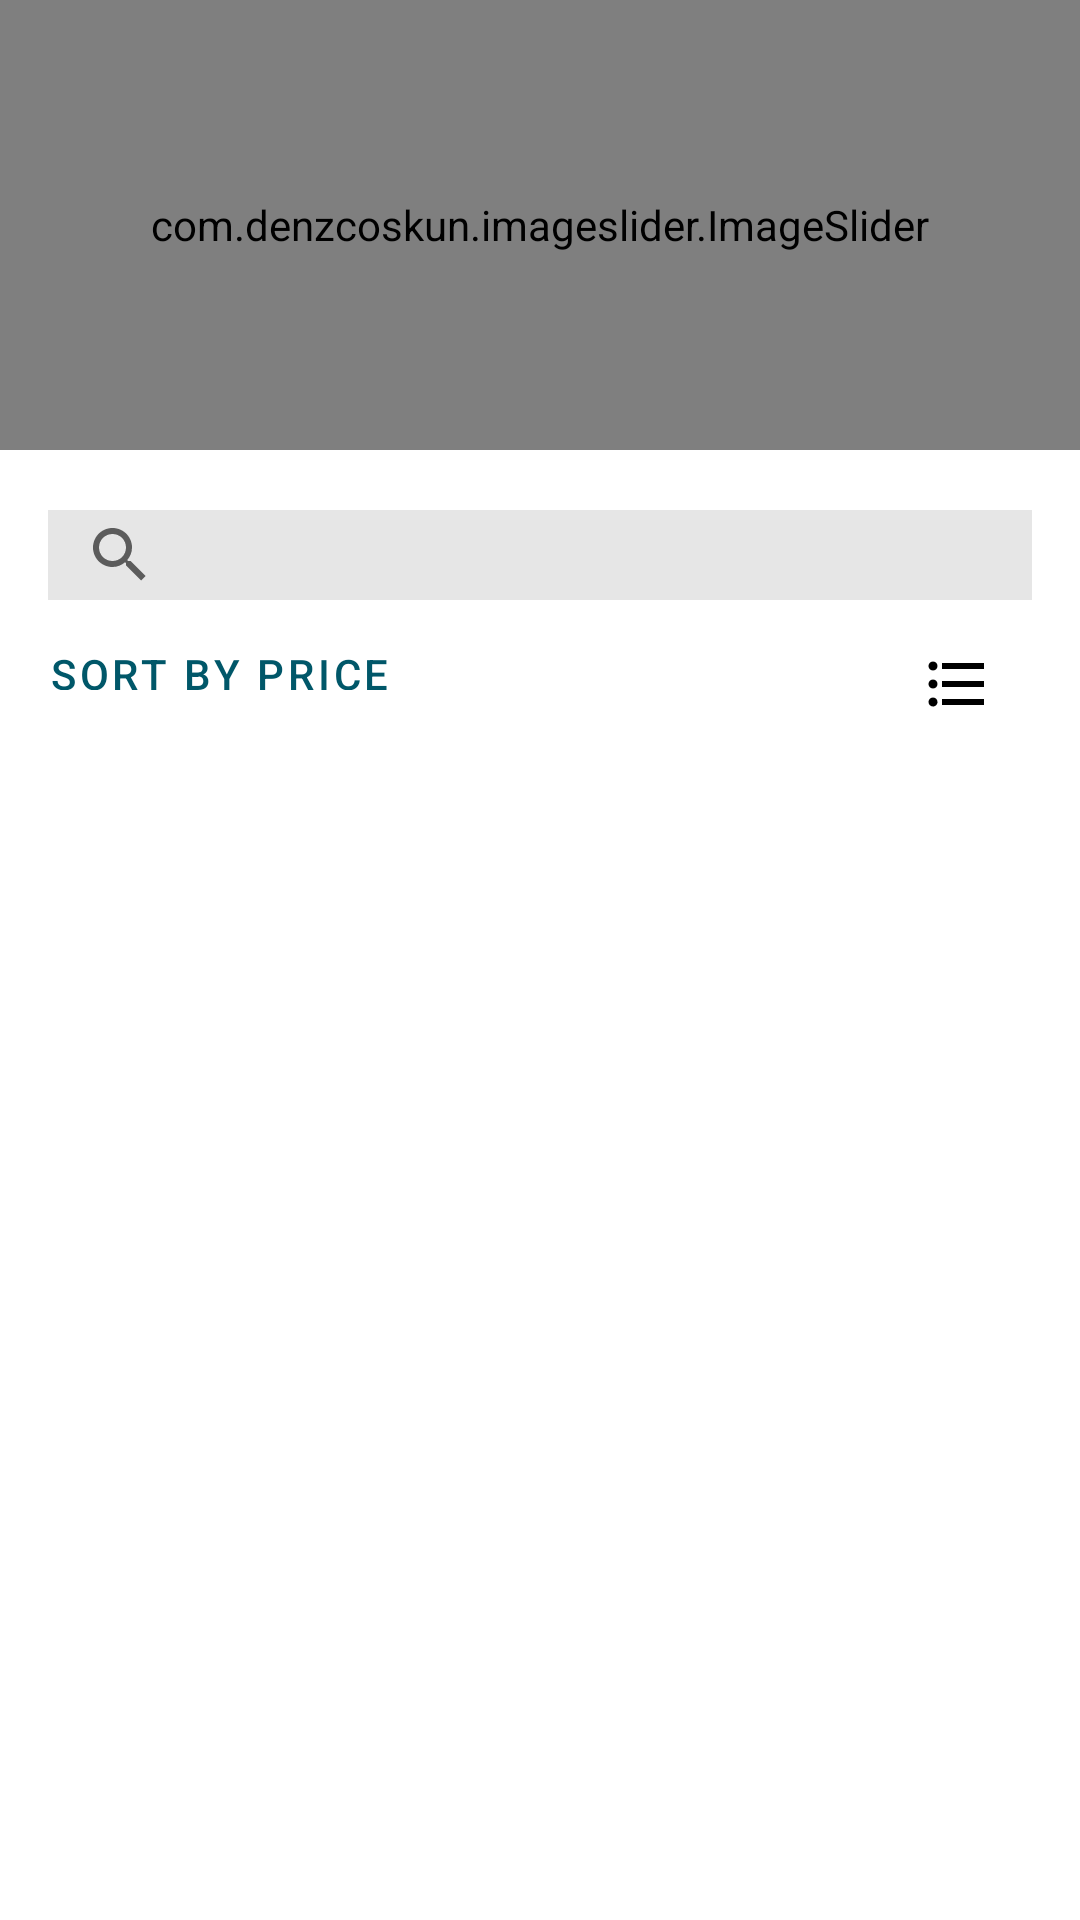

Where icons sit on this 1080x1920 app screen, as [x1,y1,x2,y2]:
format list bulleted: [928,661,984,707]
